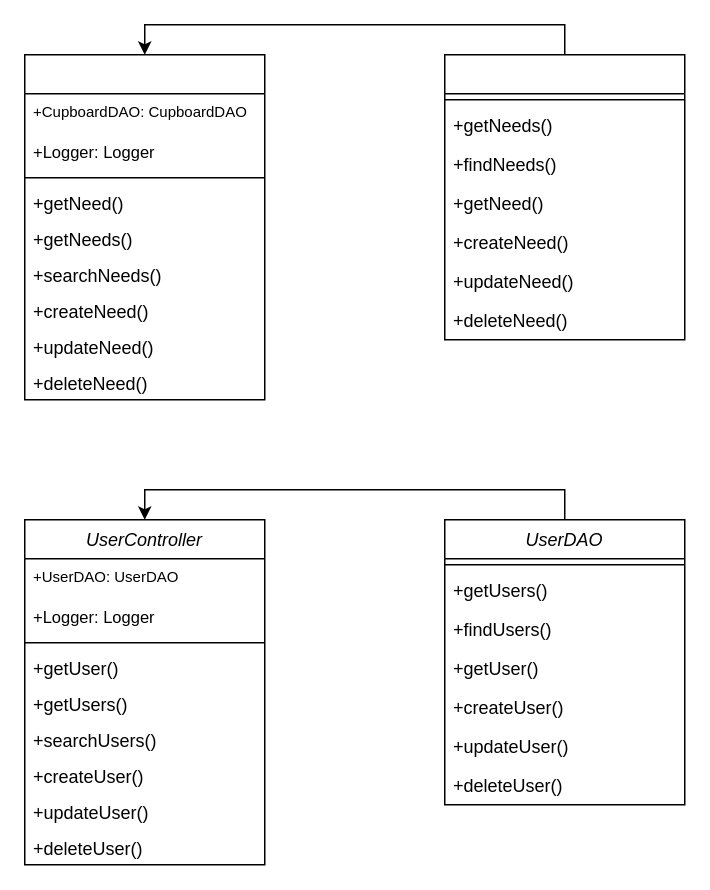
The diagram is 710 pixels wide and 890 high, and some of its shapes have lost their labels. The shapes that lost their labels are listed below. From the top down, each one's box as (x1, y1, x2, y2) in pixels, then its label:
(443, 53, 685, 340): CupboardDAO
(23, 53, 265, 400): NeedController
